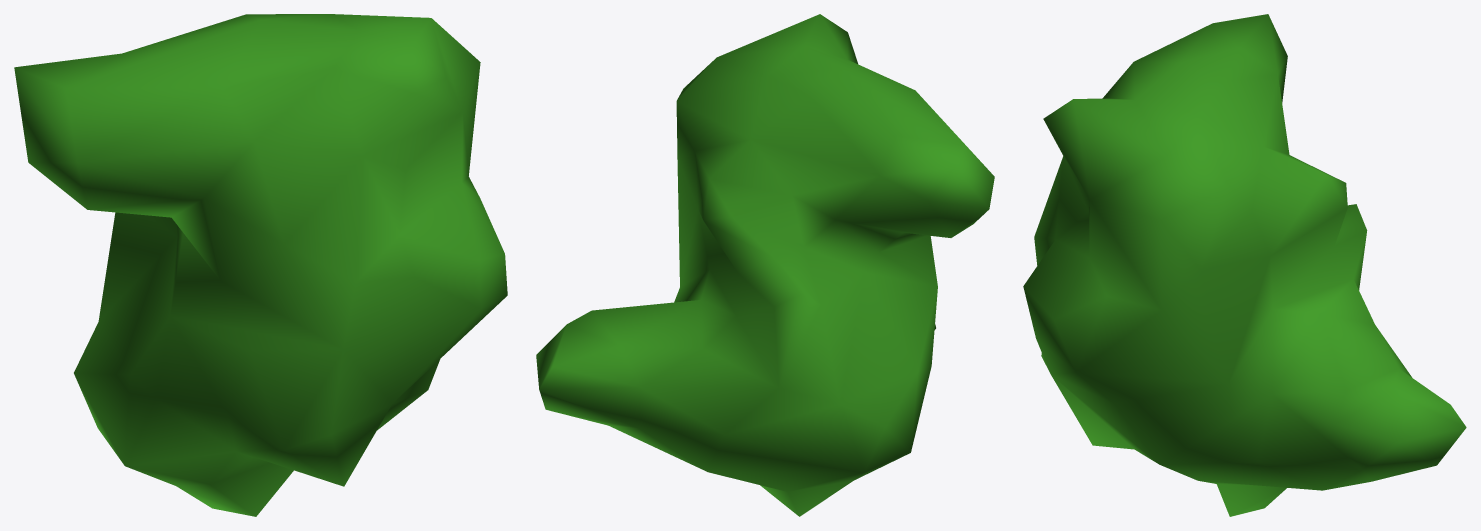
Rendered from Mgenitalium_dnaj_4dcz_0_1_0.dae.
3 renders of one model, left to right at view 1: azimuth 30°, elevation 25°; view 2: azimuth 150°, elevation 25°; view 3: azimuth 270°, elevation 25°, orthographic. The views are drawn at different scales.
Parts seen in each view (by area): view 1: CoarseMS_4dcz; view 2: CoarseMS_4dcz; view 3: CoarseMS_4dcz.
Part boxes in pixels (x1=…): CoarseMS_4dcz: x1=14, y1=14, x2=507, y2=516; CoarseMS_4dcz: x1=536, y1=14, x2=994, y2=516; CoarseMS_4dcz: x1=1023, y1=14, x2=1466, y2=516.
Bounding box in the file's own units: 40.78 × 44.38 × 40.05.
